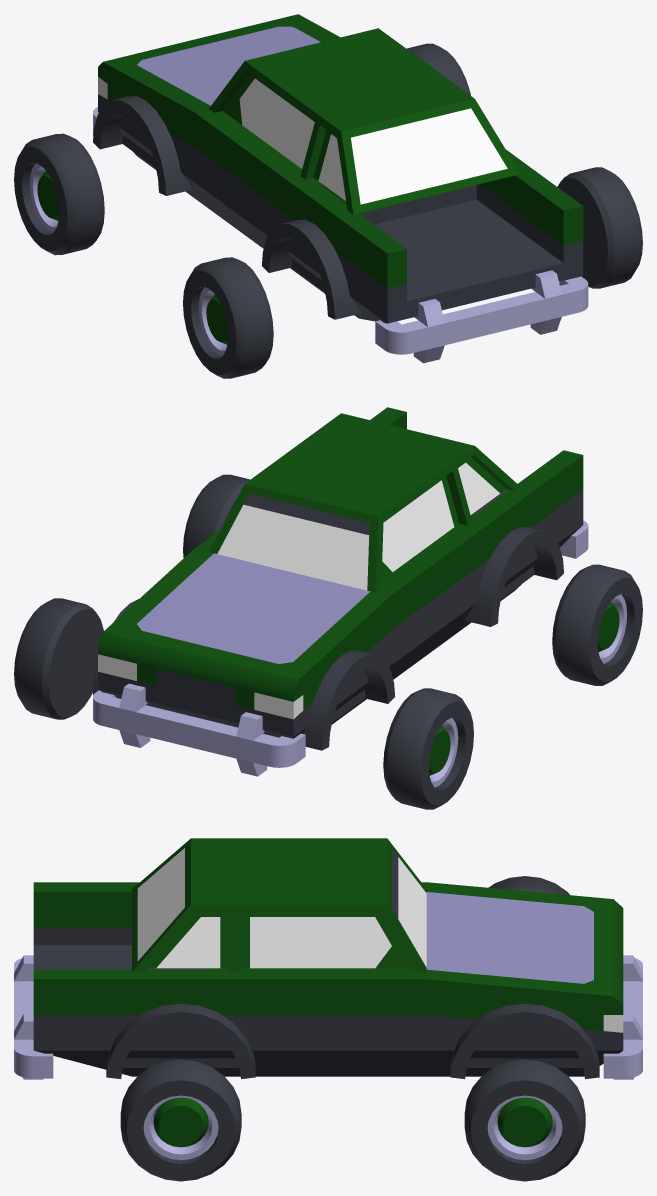
File: greencar.glb
3 views of the same model, one above another, from view 1: azimuth 30°, elevation 25°; view 2: azimuth 150°, elevation 25°; view 3: azimuth 270°, elevation 25° (orthographic).
Parts seen in each view (by area): view 1: body_backBed, wheel_classic (×4), body_topBackStandard, body_topSteep, body_frontStandard, body_standard, wheel_coverStandard (×2), bumper_detailed; view 2: body_frontStandard, wheel_classic (×4), body_topSteep, body_standard, bumper_detailed (×2), wheel_coverStandard (×2), body_backBed, body_topBackStandard; view 3: body_frontStandard, body_topSteep, wheel_classic (×3), body_backBed, body_standard, body_topBackStandard, wheel_coverStandard (×2), bumper_detailed (×2).
Boxes of the visible parts, left/top/right/bottom form: body_backBed: left=291, top=150, right=583, bottom=323; wheel_classic (×4): left=14, top=43, right=642, bottom=378; body_topBackStandard: left=313, top=85, right=520, bottom=214; body_topSteep: left=209, top=28, right=455, bottom=179; body_frontStandard: left=98, top=14, right=340, bottom=211; body_standard: left=194, top=109, right=309, bottom=282; wheel_coverStandard (×2): left=93, top=96, right=361, bottom=319; bumper_detailed: left=375, top=270, right=588, bottom=363; body_frontStandard: left=98, top=548, right=389, bottom=738; wheel_classic (×4): left=14, top=474, right=642, bottom=809; body_topSteep: left=209, top=427, right=472, bottom=592; body_standard: left=195, top=522, right=486, bottom=679; bumper_detailed (×2): left=93, top=520, right=588, bottom=776; wheel_coverStandard (×2): left=302, top=527, right=563, bottom=750; body_backBed: left=370, top=407, right=583, bottom=625; body_topBackStandard: left=322, top=413, right=520, bottom=514; body_frontStandard: left=426, top=882, right=623, bottom=1076; body_topSteep: left=230, top=838, right=426, bottom=972; wheel_classic (×3): left=120, top=876, right=585, bottom=1181; body_backBed: left=33, top=882, right=230, bottom=1076; body_standard: left=230, top=882, right=426, bottom=1076; body_topBackStandard: left=132, top=838, right=230, bottom=972; wheel_coverStandard (×2): left=106, top=1003, right=599, bottom=1079; bumper_detailed (×2): left=14, top=955, right=642, bottom=1079.
Bounding box in the file's own units: 2.43 × 1.19 × 3.2.
